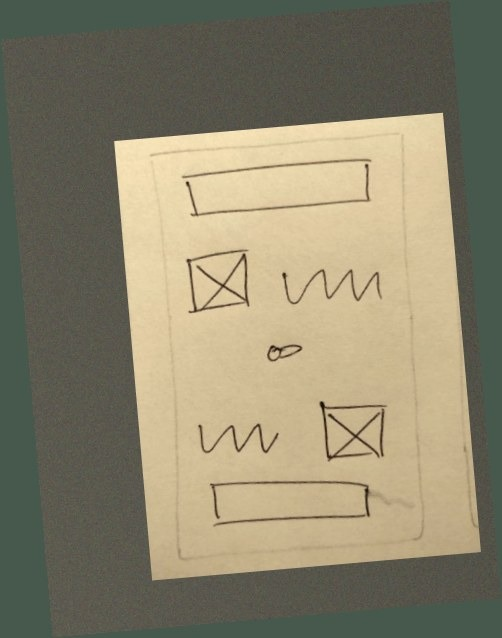image: (307, 388, 403, 475), (178, 243, 259, 321)
switch: (257, 330, 314, 371)
text: (274, 253, 388, 319), (191, 406, 289, 470)
text_input: (200, 464, 383, 541), (178, 154, 378, 223)
